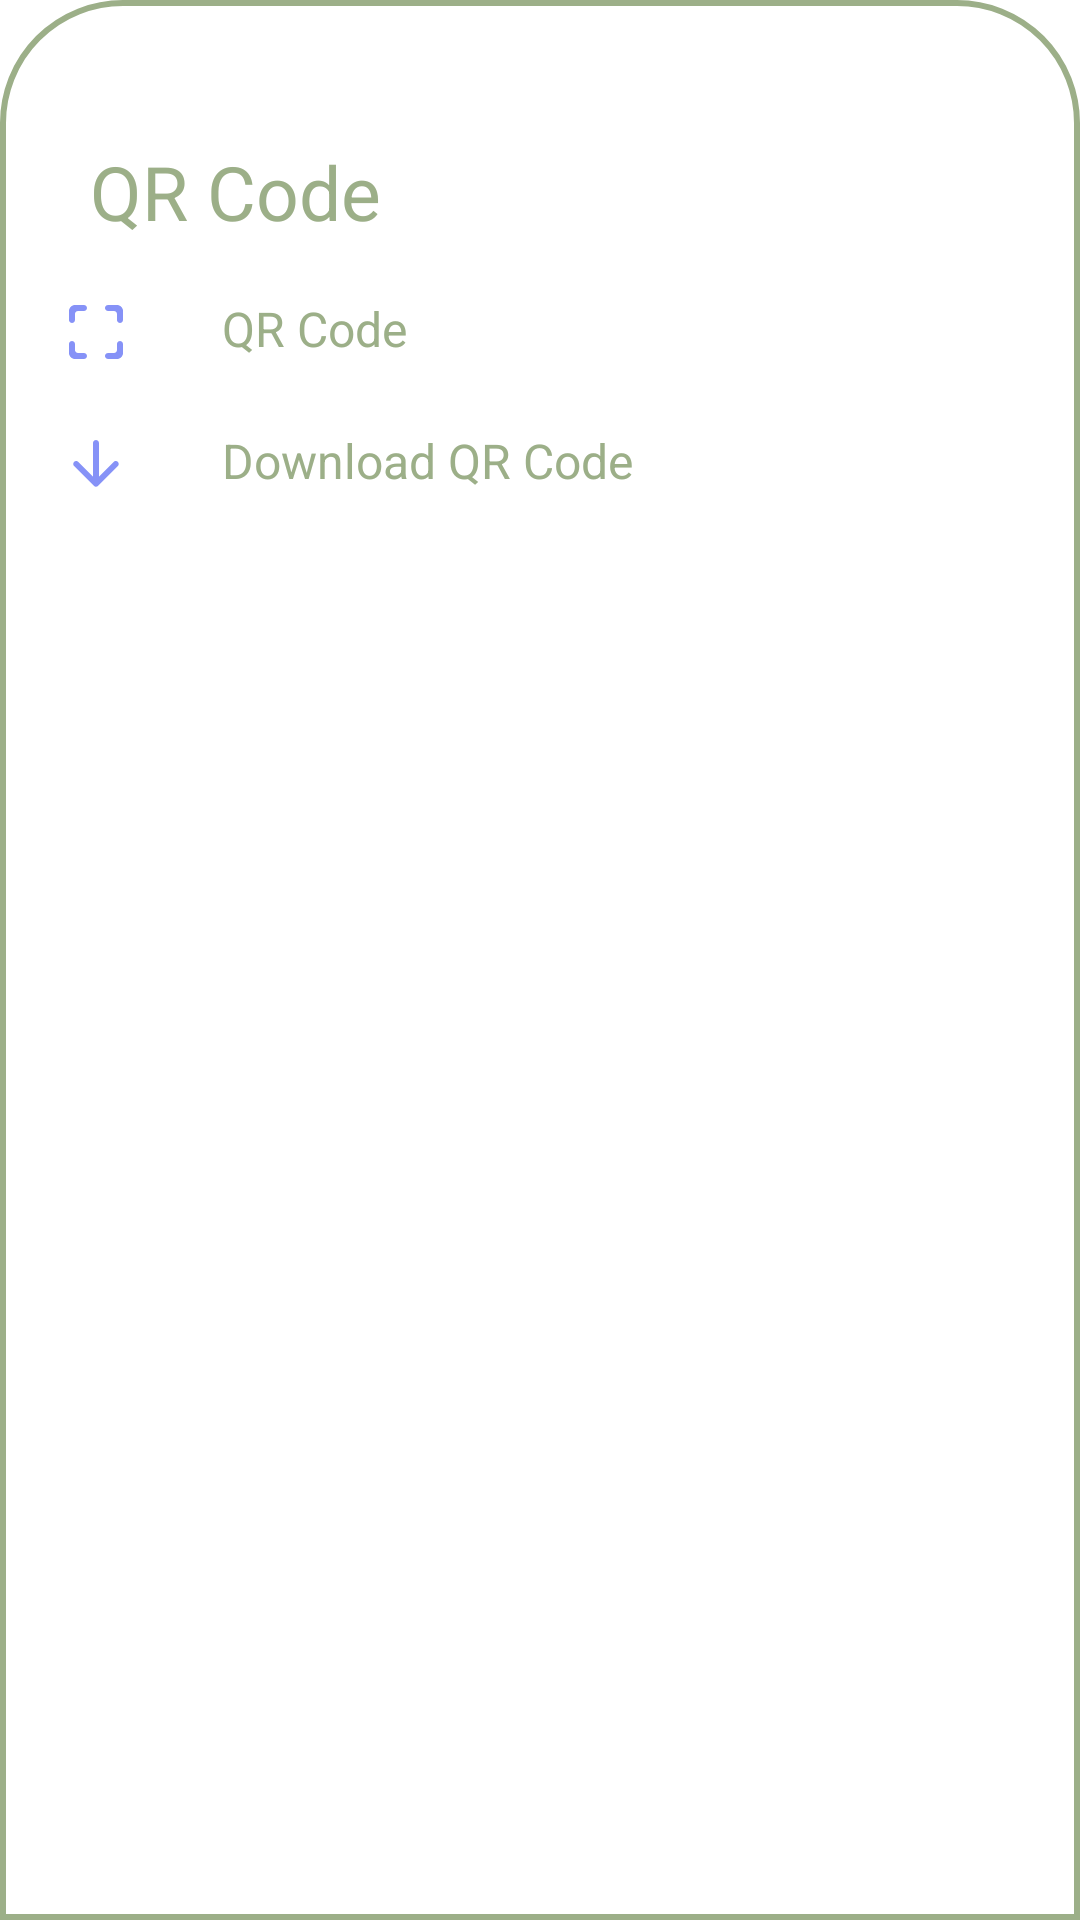

Icons on this 1080 × 1920 Android screen, each with its box as [x1=x1, y1=y1, x2=x2, y2=y2]:
arrow downward: [x1=73, y1=440, x2=119, y2=487]
crop free: [x1=69, y1=305, x2=123, y2=359]
